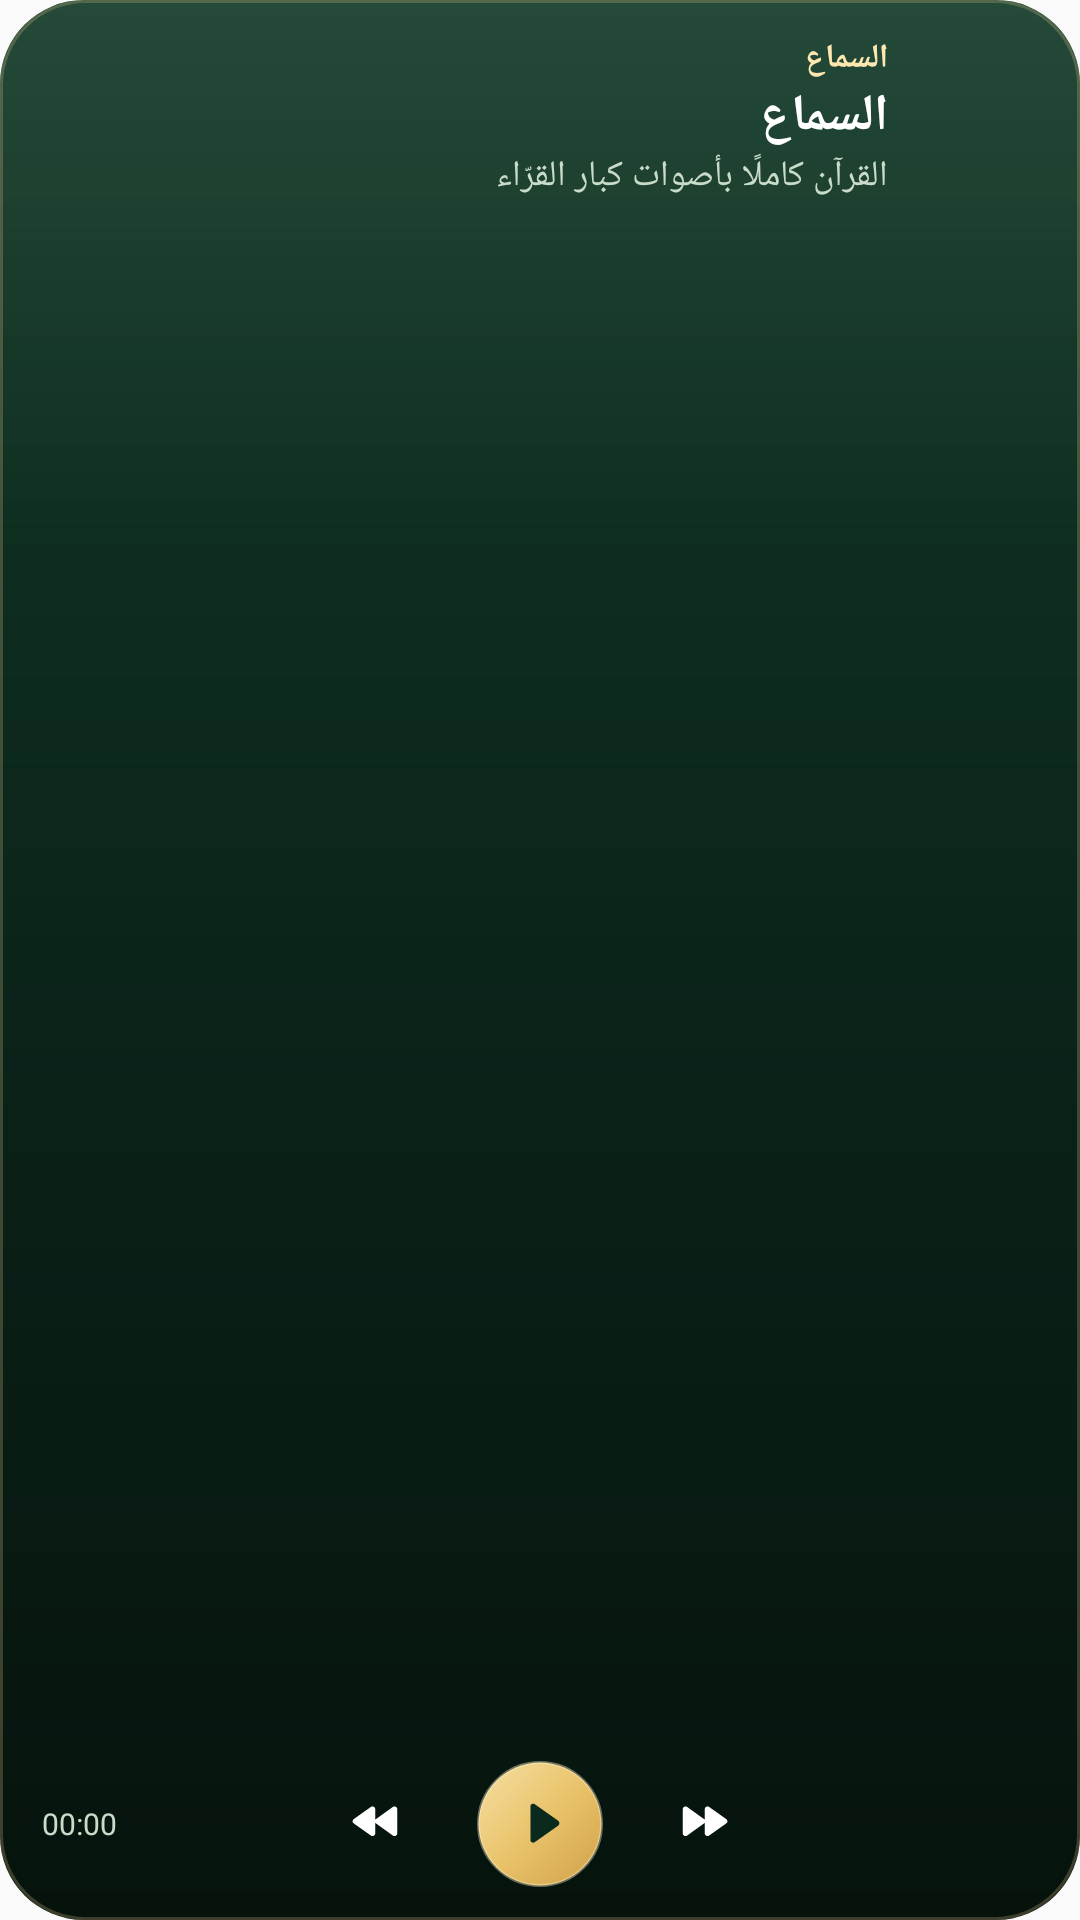

Named icons in this screenshot (1080×1920) and their centers, (x=x, y=y):
التالي: (x=705, y=1821)
السابق: (x=375, y=1821)
تشغيل: (x=540, y=1824)
